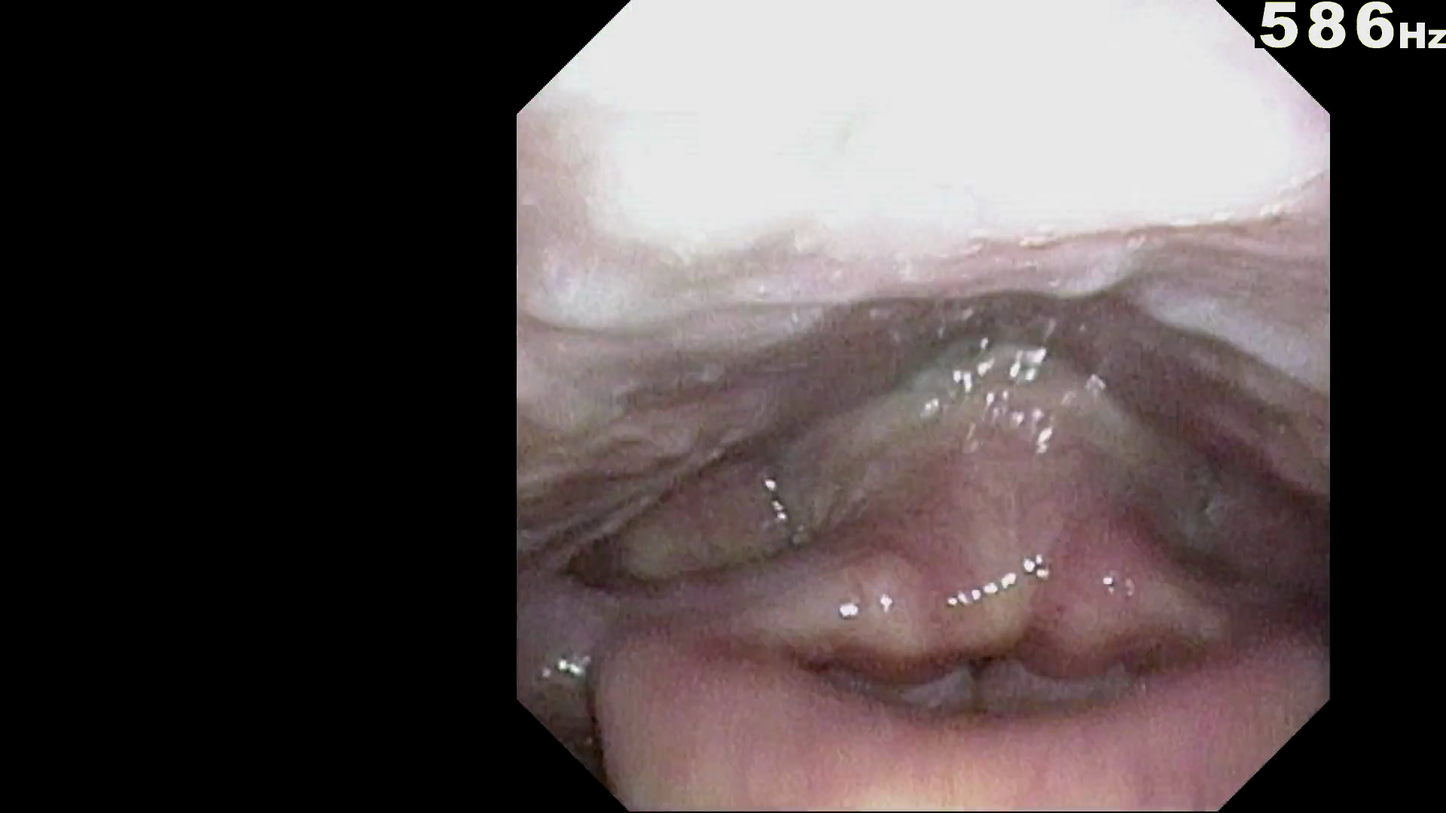epiglottis: (654, 673, 1218, 803)
